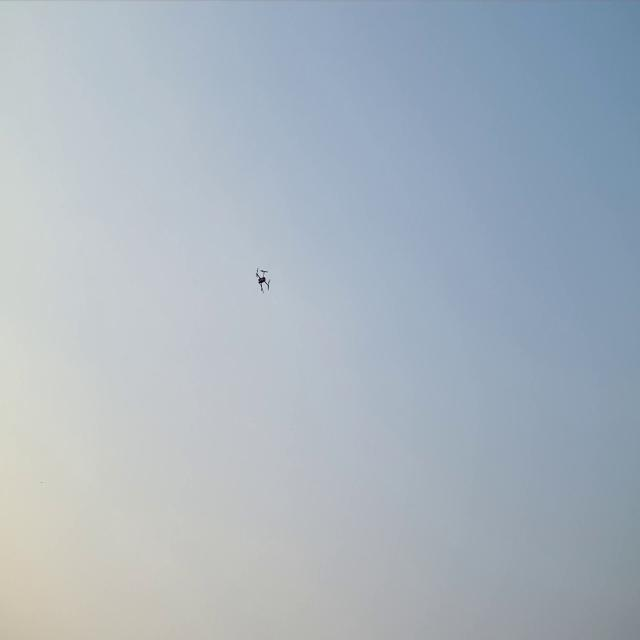UAV: (254, 264, 274, 299)
